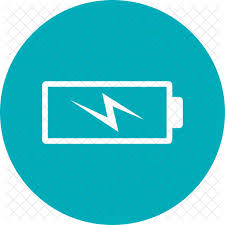charging sign: (30, 70, 195, 157)
